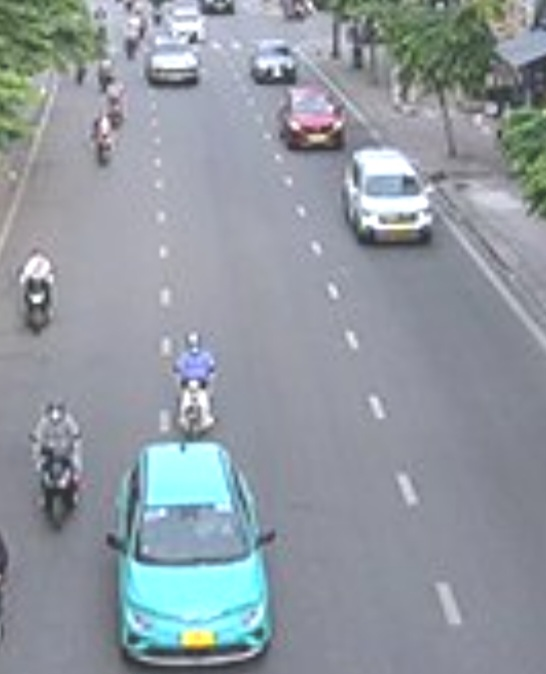car: (115, 444, 275, 667), (344, 147, 437, 244), (282, 87, 347, 150), (147, 36, 197, 85), (248, 39, 300, 82)
